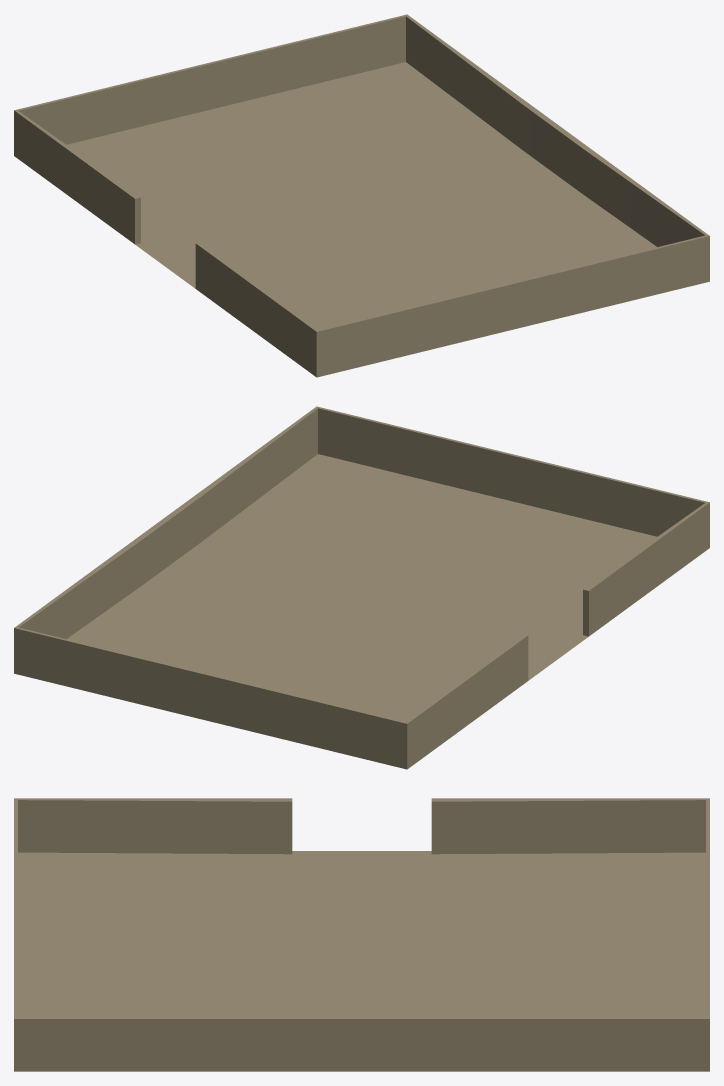
File: wall.fbx
3 views of the same model, one above another, from view 1: azimuth 30°, elevation 25°; view 2: azimuth 150°, elevation 25°; view 3: azimuth 270°, elevation 25° (orthographic). The views are drawn at different scales.
Parts seen in each view (by area): view 1: pPlane31; view 2: pPlane31; view 3: pPlane31.
Part boxes in pixels (x1,y1,x2,y2): pPlane31: [14, 14, 709, 377]; pPlane31: [14, 406, 709, 769]; pPlane31: [14, 798, 709, 1071].
Bounding box in the file's own units: 833 × 92.53 × 1111.
